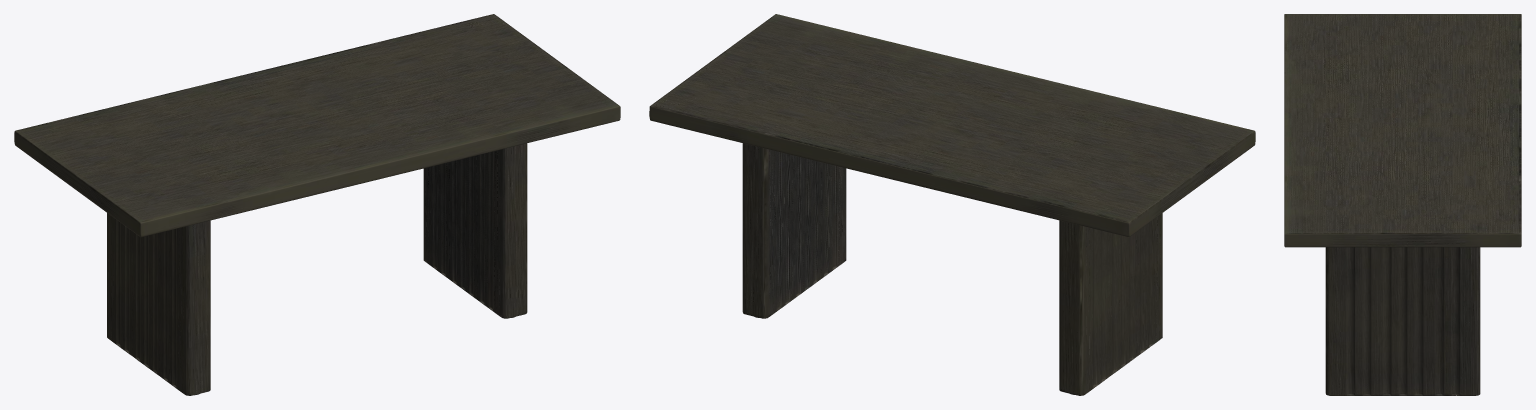
Rendered from dining-real-castlery-sloane-dining-table-180.glb.
The picture shows the model from 3 angles, left to right: view 1: azimuth 30°, elevation 25°; view 2: azimuth 150°, elevation 25°; view 3: azimuth 270°, elevation 25°; orthographic projection. The views are drawn at different scales.
Visible parts, largest first — view 1: node_0; view 2: node_0; view 3: node_0.
Part boxes in pixels (x1,y1,x2,y2): node_0: (14,14,620,395); node_0: (649,14,1255,395); node_0: (1284,14,1521,395).
Size of the model in its own units: 1.02 by 0.4273 by 0.4663.
Materials: 1 (1 with a texture image).
